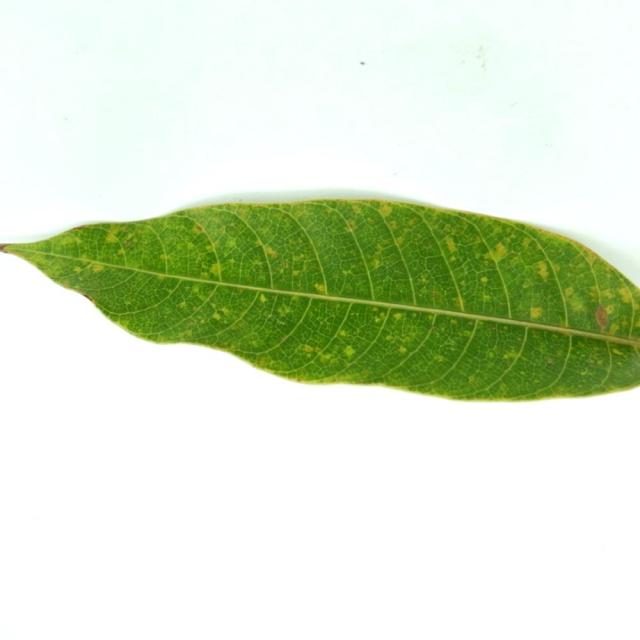Mango: (4, 199, 639, 401)
Powdery_Mildew: (529, 252, 554, 279), (484, 241, 508, 264), (307, 280, 332, 296), (617, 285, 634, 303), (569, 297, 585, 313), (586, 254, 601, 268), (444, 237, 457, 253), (104, 230, 120, 243), (589, 285, 602, 299), (530, 307, 543, 319), (210, 263, 222, 276), (379, 204, 392, 216), (343, 345, 356, 357), (633, 349, 640, 371), (503, 349, 518, 359), (602, 289, 615, 300), (264, 247, 277, 258), (274, 316, 288, 326), (632, 332, 640, 349), (454, 297, 465, 309), (91, 263, 104, 273), (256, 357, 269, 367), (522, 237, 533, 248), (450, 256, 461, 267), (295, 254, 307, 264), (69, 225, 89, 231), (226, 239, 237, 249), (597, 324, 608, 334), (198, 292, 210, 301), (320, 353, 331, 362), (345, 222, 356, 231), (612, 323, 621, 334), (393, 312, 403, 321), (565, 287, 574, 297), (376, 313, 386, 322), (303, 345, 314, 353), (434, 355, 445, 363), (612, 348, 624, 355), (395, 237, 404, 246), (278, 308, 288, 316), (259, 294, 267, 303), (212, 312, 221, 320), (372, 259, 380, 268), (398, 346, 407, 354), (388, 221, 397, 229), (522, 281, 531, 289), (606, 305, 614, 314), (468, 375, 477, 383), (251, 339, 260, 347), (499, 383, 508, 391), (560, 322, 569, 330), (86, 295, 95, 303), (160, 254, 170, 261), (205, 245, 215, 252), (483, 294, 491, 302), (187, 242, 195, 250), (420, 276, 428, 284), (487, 350, 495, 358), (73, 266, 82, 273), (342, 269, 351, 276), (184, 329, 193, 336), (194, 224, 203, 231), (480, 276, 488, 283), (179, 301, 187, 308), (255, 240, 263, 247), (291, 295, 299, 302), (227, 258, 235, 265), (253, 260, 261, 267), (279, 335, 287, 342), (189, 320, 197, 327), (296, 376, 305, 382), (387, 335, 394, 342), (282, 261, 289, 268), (292, 270, 300, 276), (339, 330, 346, 336), (118, 249, 125, 255), (460, 280, 466, 287), (465, 331, 472, 337), (546, 358, 553, 364), (428, 315, 434, 322), (430, 325, 437, 331), (537, 227, 545, 232), (431, 291, 437, 297), (451, 320, 458, 325), (493, 324, 498, 331), (372, 307, 378, 312)
